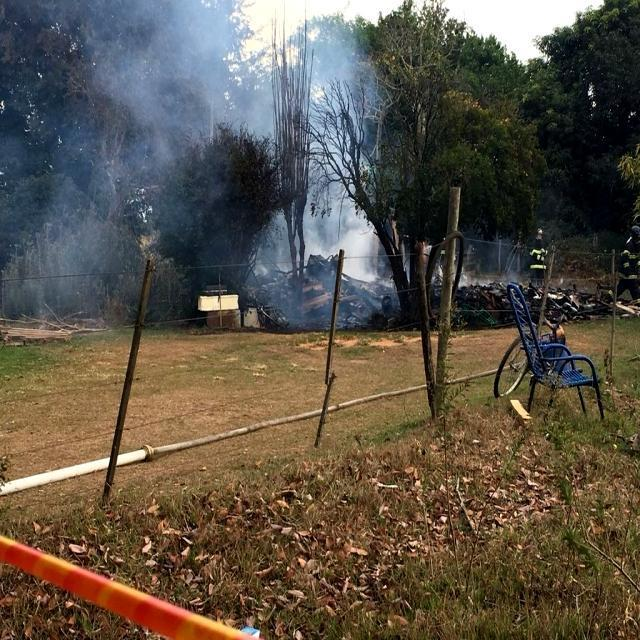Smoke: (56, 0, 397, 320)
